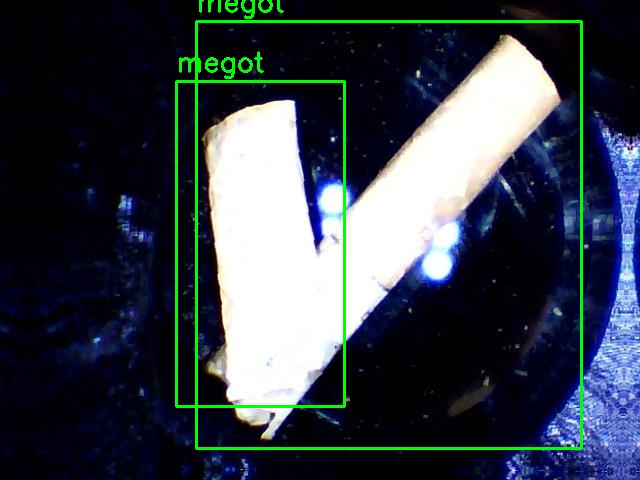megot: (196, 21, 581, 448), (176, 81, 344, 406)
